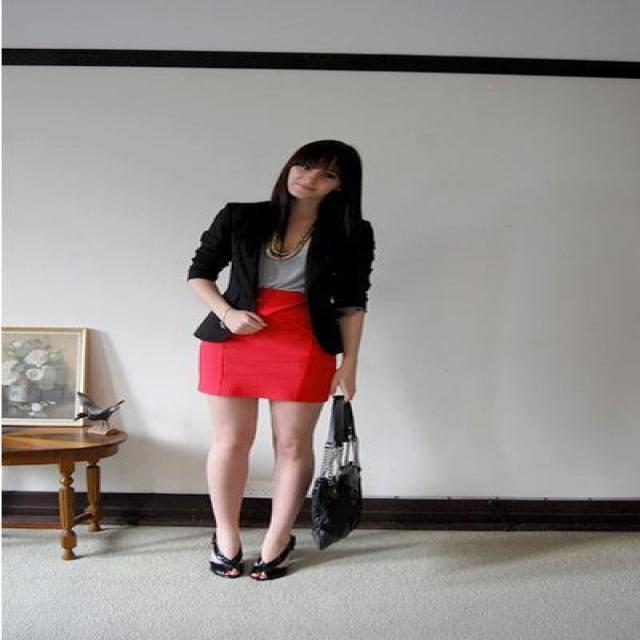bag: (291, 422, 368, 548)
jacket: (188, 203, 374, 357)
shirt: (262, 246, 306, 292)
shoe: (211, 541, 293, 580)
skirt: (198, 289, 325, 402)
